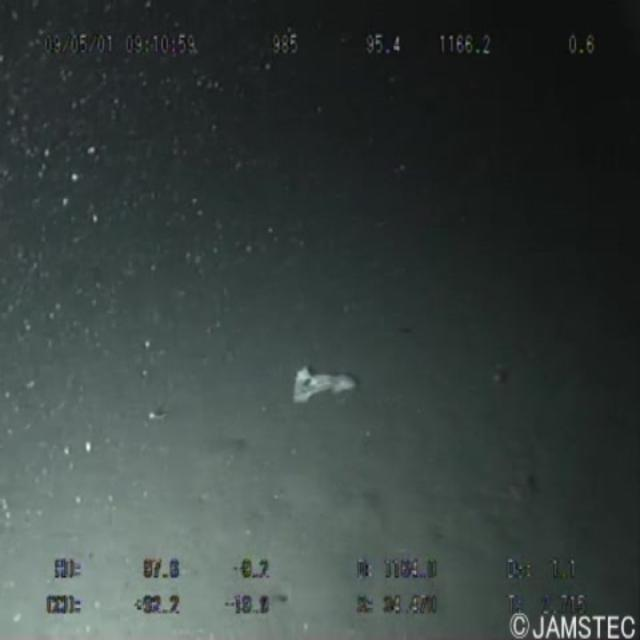Plastic: (277, 334, 370, 419)
